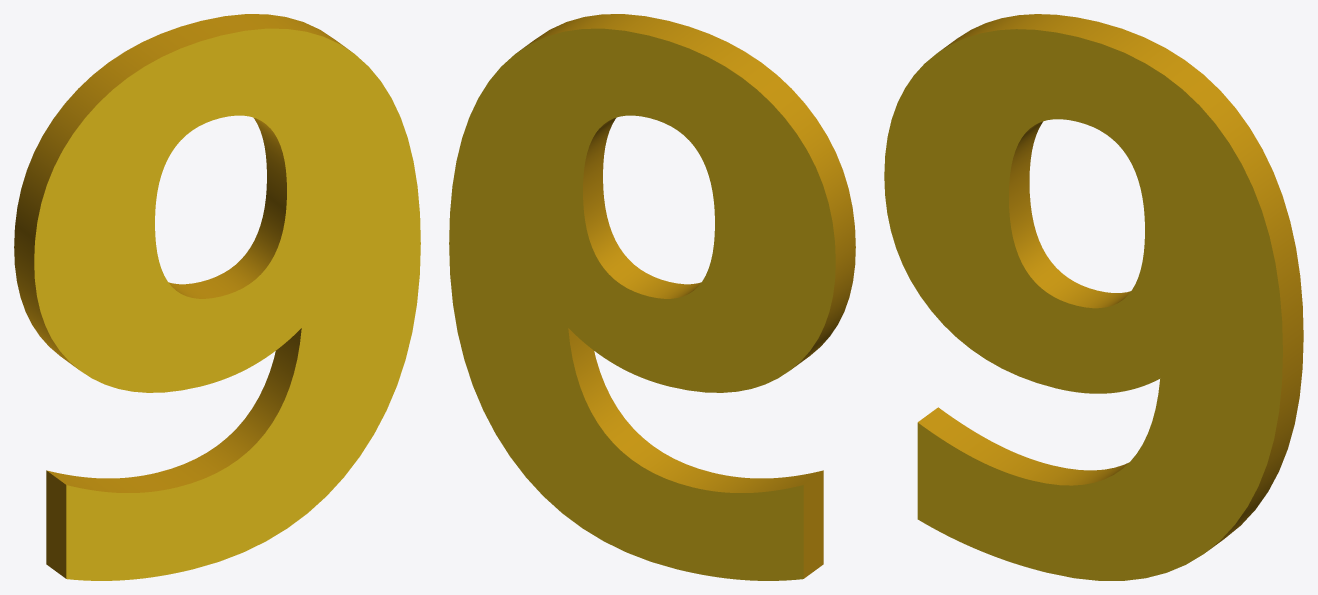
The model's file is Digito9.obj.
3 renders of one model, left to right at view 1: azimuth 30°, elevation 25°; view 2: azimuth 150°, elevation 25°; view 3: azimuth 330°, elevation 25°, orthographic. The views are drawn at different scales.
Parts seen in each view (by area): view 1: Digito9; view 2: Digito9; view 3: Digito9.
Boxes of the visible parts, x1,y1,x2,y2 form: Digito9: (14, 14, 420, 580); Digito9: (449, 14, 855, 580); Digito9: (884, 14, 1303, 580).
Bounding box in the file's own units: 0.4457 × 0.5803 × 0.04.
1 material, 1 textured.
